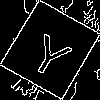Y: (25, 25, 79, 81)
